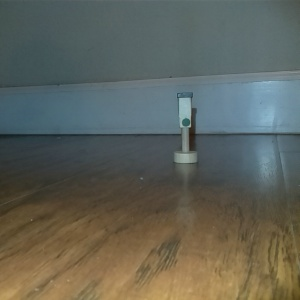traffic light green: (173, 90, 198, 165)
